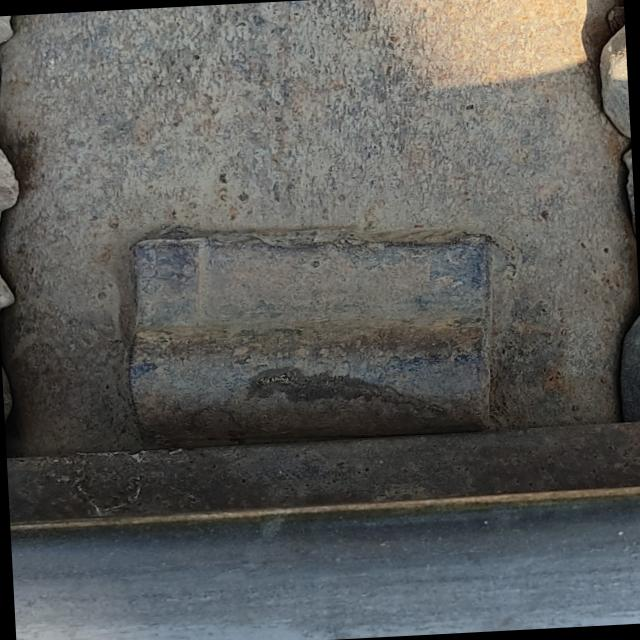track_bolt_missing: (114, 300, 504, 451)
